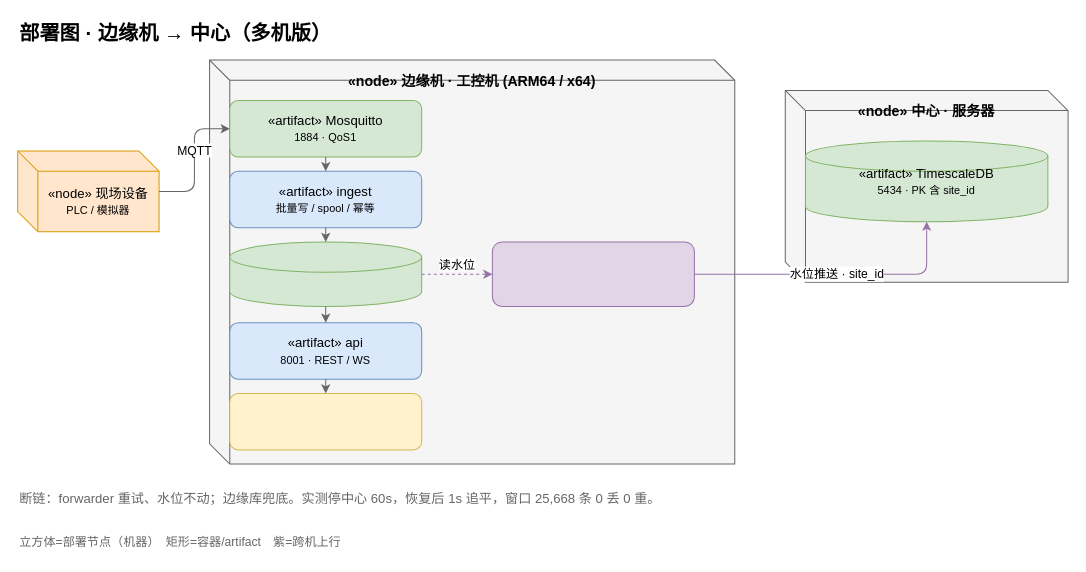
Image size: 1086x572. Some labels were removed from this diagram. The centre of each missing label's shape, as x and y in pixels:
"«artifact» forwarder 水位 + 120s 重叠回扫" goes at pixel 592 274.
"«artifact» TimescaleDB 5433 · 超表 / 聚合" goes at pixel 325 274.
"«artifact» web 5174 · nginx" goes at pixel 325 421.
